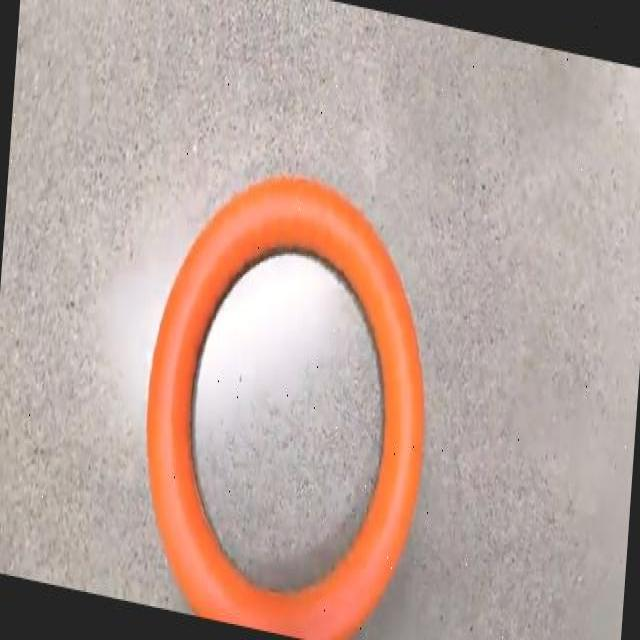note: (146, 175, 424, 640)
